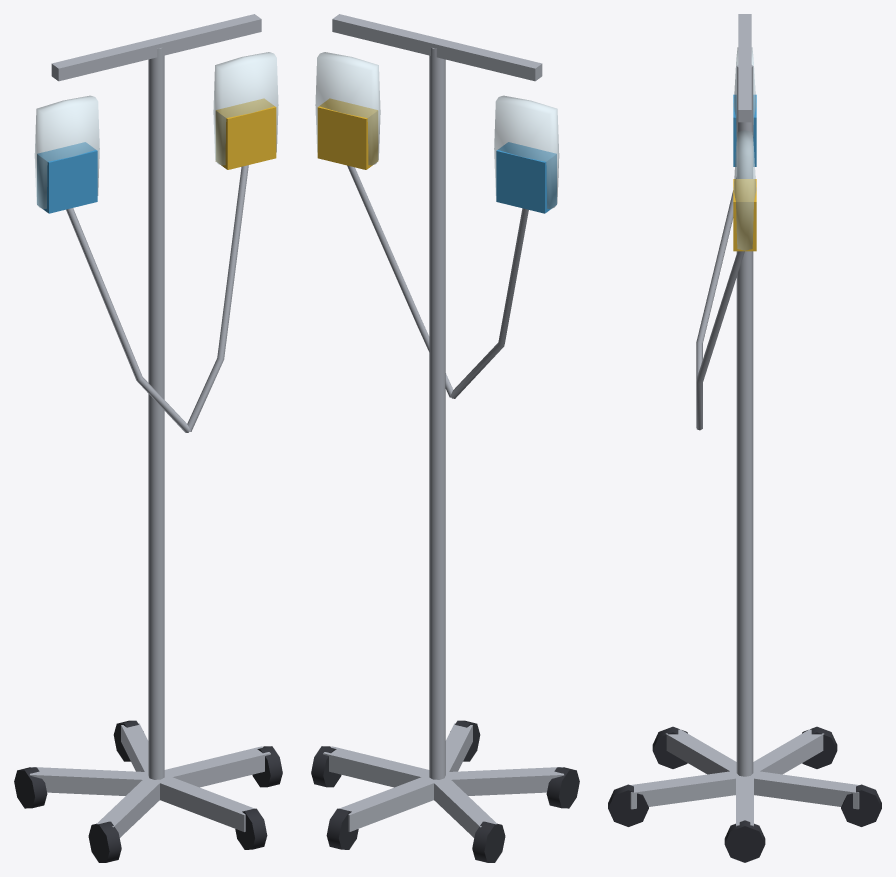
Rendered from drip_stand.glb.
3 renders of one model, left to right at view 1: azimuth 30°, elevation 25°; view 2: azimuth 150°, elevation 25°; view 3: azimuth 270°, elevation 25°, orthographic. The views are drawn at different scales.
Parts seen in each view (by area): view 1: root; view 2: root; view 3: root.
Boxes of the visible parts, x1,y1,x2,y2 form: root: (14, 14, 282, 862); root: (311, 14, 579, 862); root: (608, 14, 881, 862).
Bounding box in the file's own units: 0.59 × 1.82 × 0.6036.
